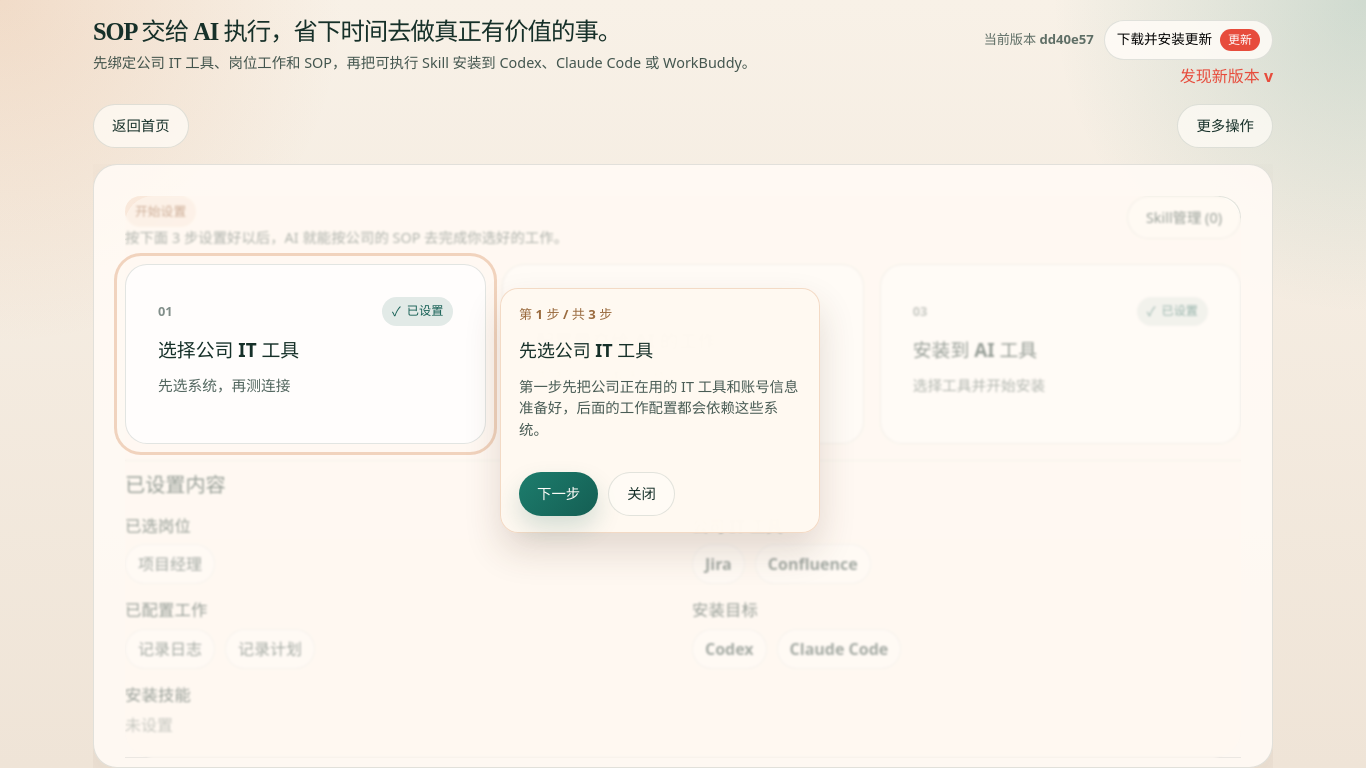
OnboardingShell › auto-opens the homepage first-run guide and does not persist completion on early close
This screenshot has width=1366, height=768.
Expected: the text "第 1 步 / 共 3 步" is shown, [519,305,612,323]
Expected: the heading "先选公司 IT 工具" is shown, [519,338,653,362]
Click the button "关闭": (642, 494) [608,472,675,516]
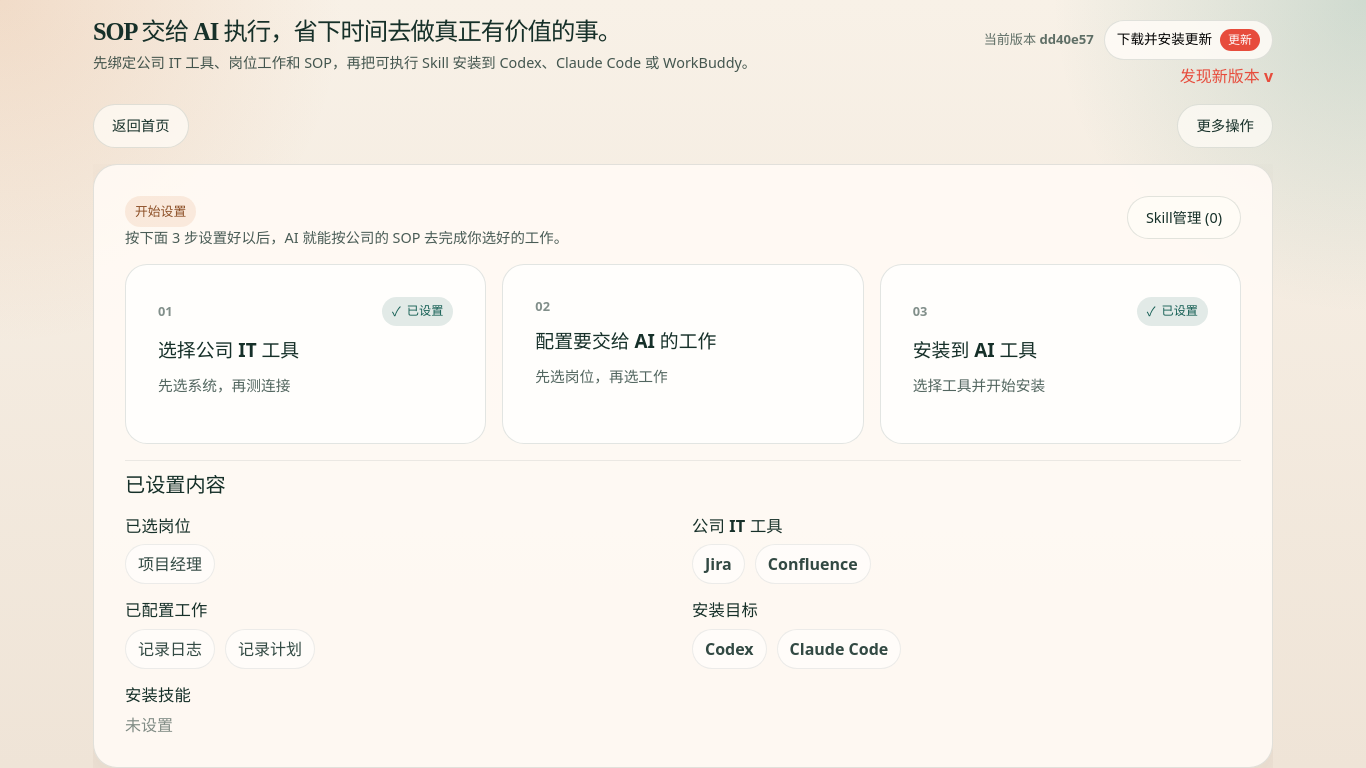
Expected: the text "第 1 步 / 共 3 步" is gone
